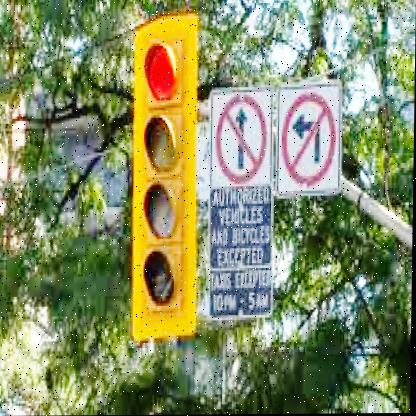No left turn: (279, 83, 340, 192)
